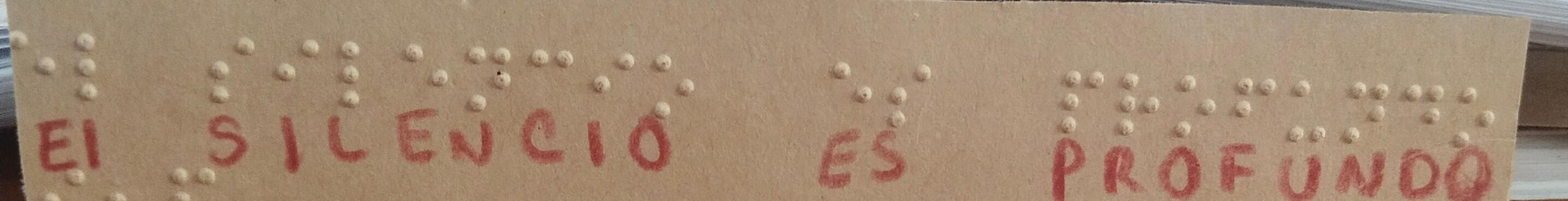c: (518, 33, 577, 107)
d: (1403, 76, 1448, 142)
e: (384, 36, 453, 98), (13, 24, 60, 96), (831, 47, 877, 118)
f: (1226, 71, 1279, 145)
i: (579, 36, 639, 107), (266, 33, 327, 94)
l: (64, 24, 107, 103), (329, 33, 371, 111)
n: (458, 36, 520, 114), (1337, 78, 1397, 149)
o: (635, 40, 702, 118), (1170, 71, 1221, 145), (1448, 80, 1497, 149)
p: (1053, 58, 1106, 142)
r: (1115, 69, 1162, 142)
s: (186, 31, 260, 109), (881, 51, 942, 131)
u: (1284, 67, 1332, 149)
